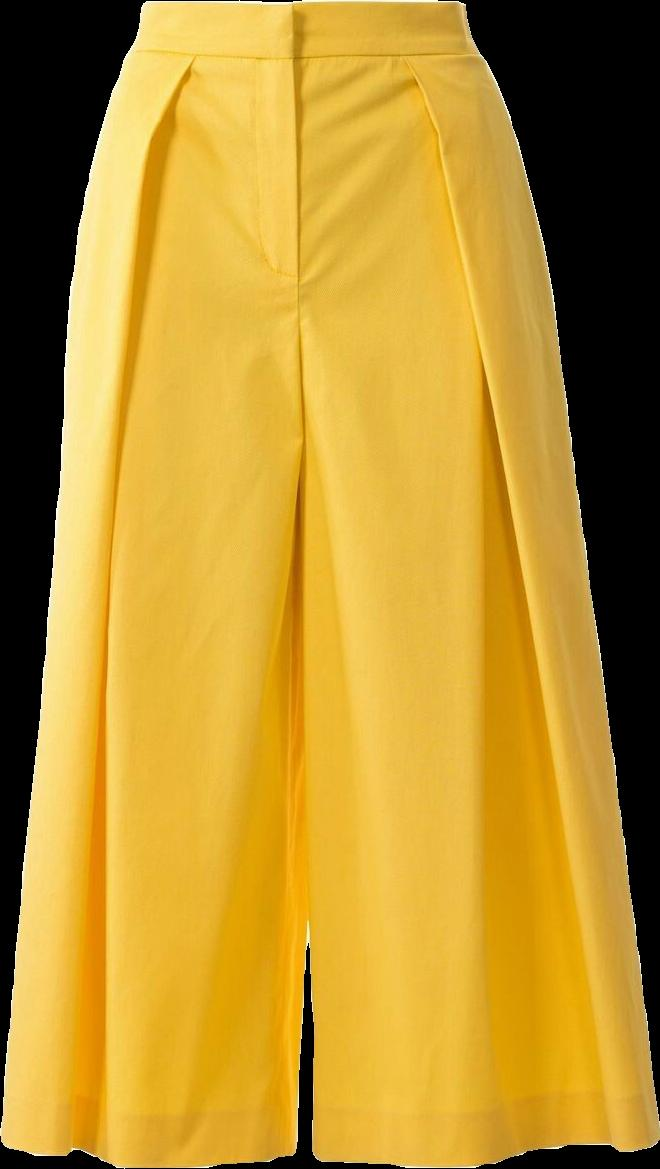Hemline: (309, 1129, 659, 1168), (0, 1131, 302, 1168)
Pantleg: (294, 3, 659, 1165), (1, 2, 305, 1165)
Waistline: (126, 39, 478, 67), (138, 0, 466, 17)
